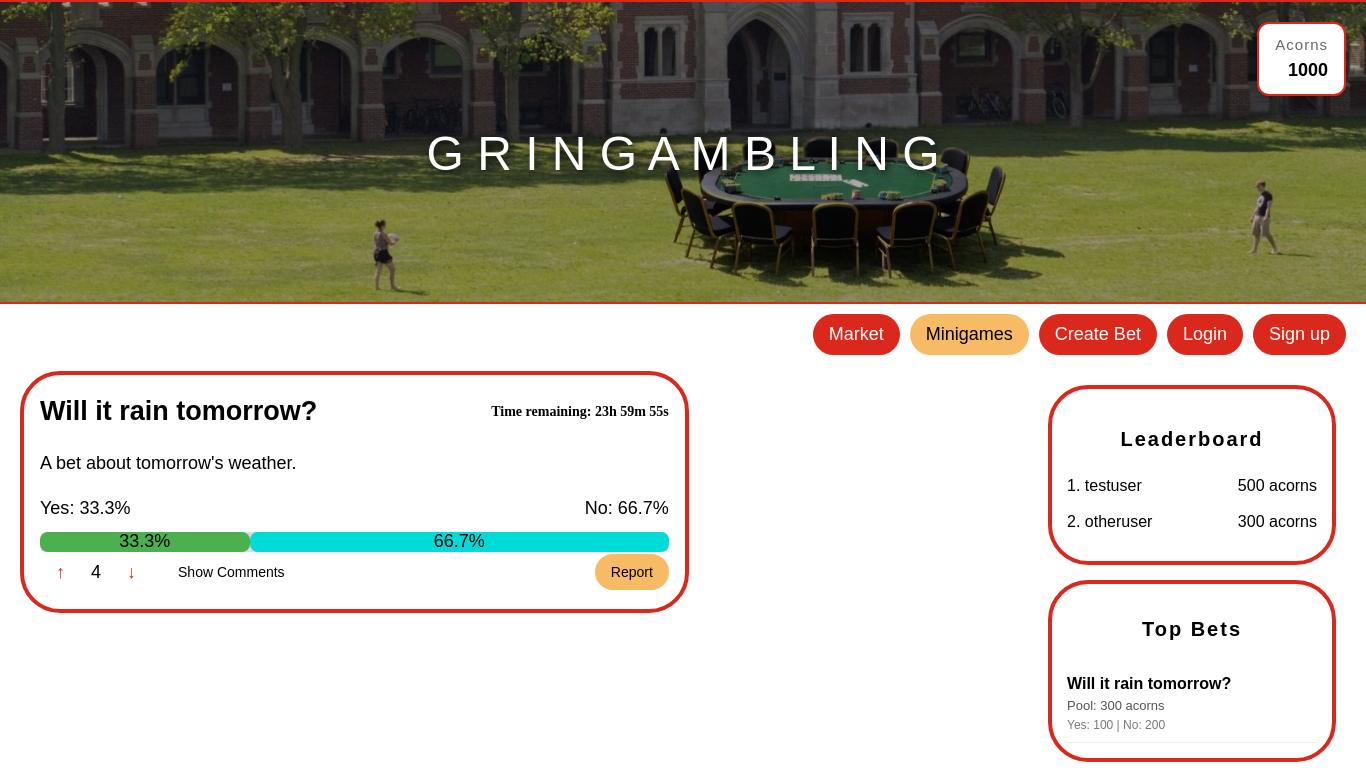
Test: market creation › guest clicking Create Bet shows error and opens login modal
Click the button "Create Bet".
click(1098, 334)  # box [1039, 314, 1157, 355]
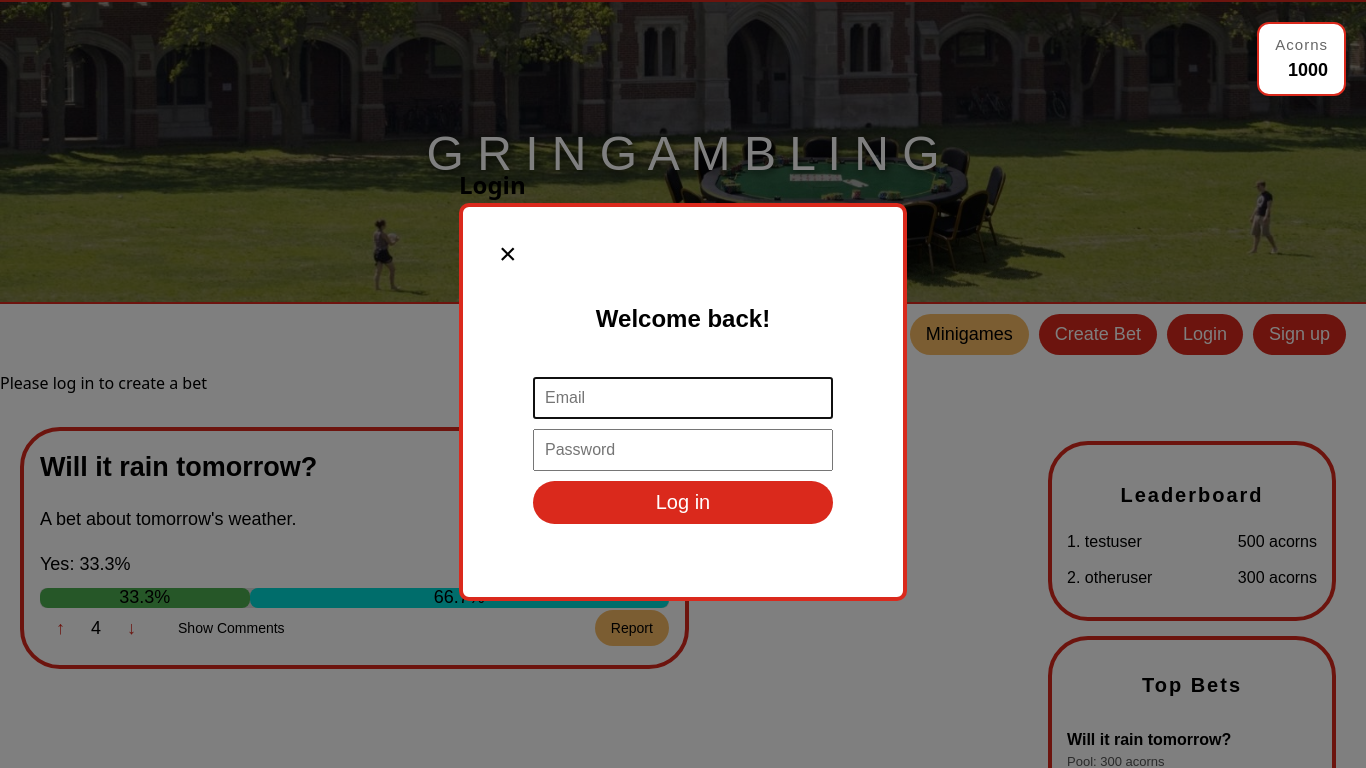
Check: the text "Please log in to create a bet" is shown, box [0, 372, 207, 394]
Check: the dialog "Login × Welcome back! Log in" is shown, box [459, 167, 907, 601]
